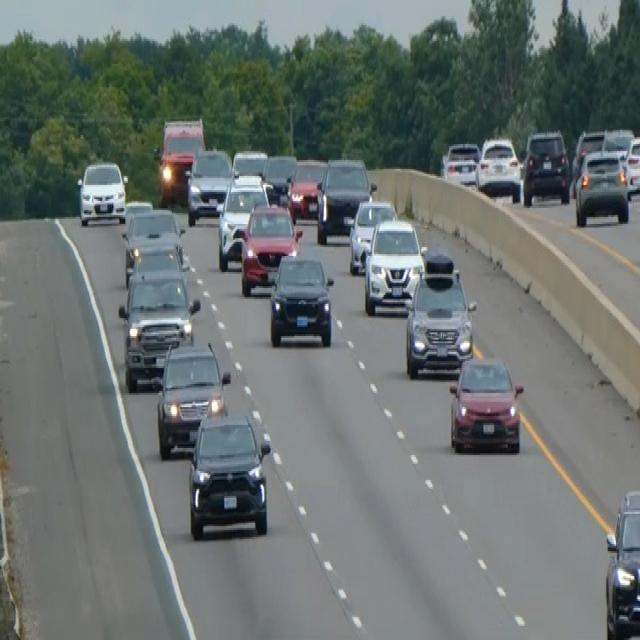car: (117, 267, 200, 391), (404, 252, 476, 377), (155, 339, 230, 458), (448, 354, 524, 453), (268, 252, 334, 348), (363, 217, 426, 315), (239, 201, 302, 295), (216, 171, 270, 270), (604, 487, 639, 638), (316, 154, 375, 243), (122, 207, 187, 284), (574, 147, 630, 225), (347, 197, 398, 274), (184, 146, 232, 226), (522, 128, 570, 206), (76, 156, 128, 226), (475, 135, 521, 201), (287, 157, 327, 220), (571, 128, 605, 188), (261, 153, 297, 204), (441, 139, 480, 185), (601, 126, 634, 164), (231, 148, 267, 178), (624, 134, 639, 196), (122, 197, 153, 226)
jeep: (187, 407, 272, 541), (153, 114, 206, 206)
